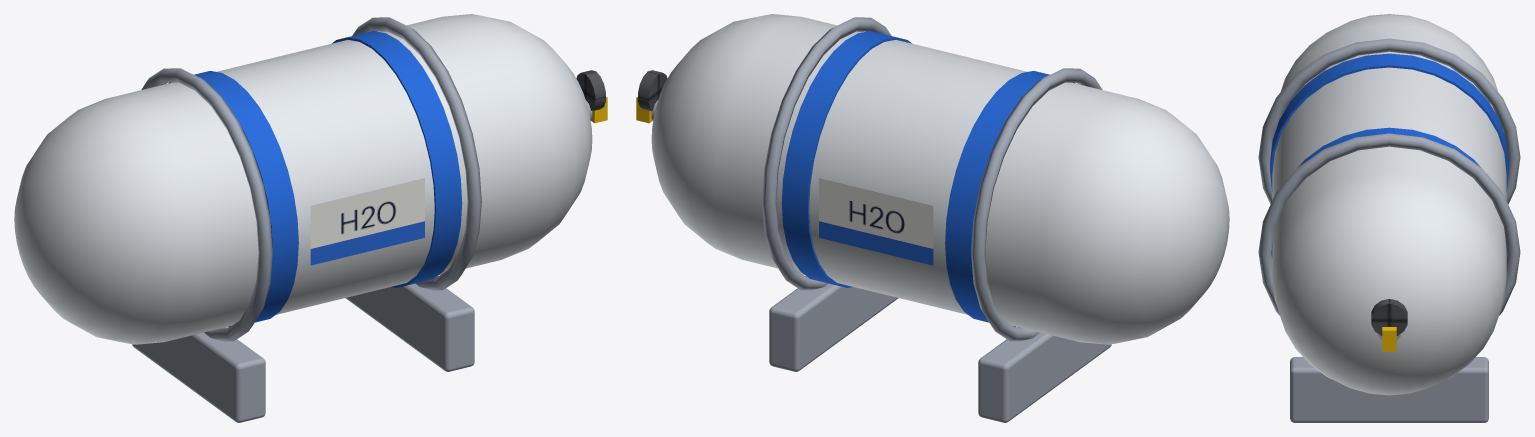
The model's file is WaterTank.glb.
3 views of the same model, side by side, from view 1: azimuth 30°, elevation 25°; view 2: azimuth 150°, elevation 25°; view 3: azimuth 270°, elevation 25° (orthographic). The views are drawn at different scales.
Parts seen in each view (by area): view 1: WaterTank_Mesh; view 2: WaterTank_Mesh; view 3: WaterTank_Mesh.
Part boxes in pixels (x1,y1,x2,y2): WaterTank_Mesh: (14,14,607,422); WaterTank_Mesh: (636,14,1229,422); WaterTank_Mesh: (1258,14,1520,422).
Bounding box in the file's own units: 2.63 × 1.34 × 1.12.
6 materials, 2 textured.
